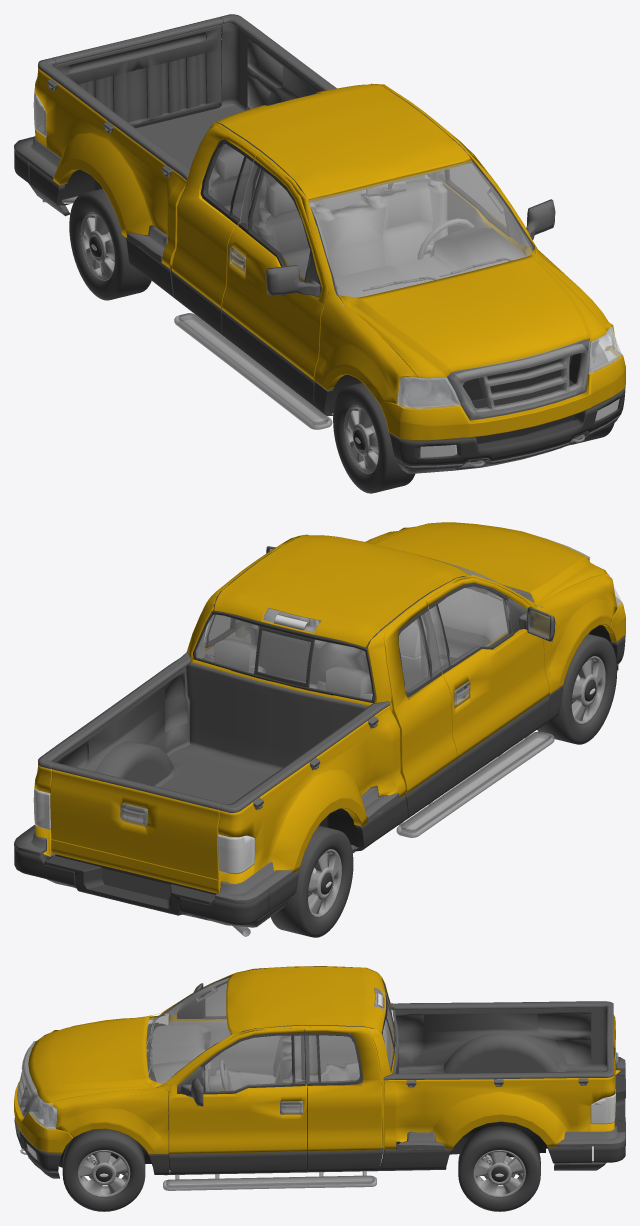
The picture shows the model from 3 angles, top to bottom: view 1: azimuth 30°, elevation 25°; view 2: azimuth 150°, elevation 25°; view 3: azimuth 270°, elevation 25°; orthographic projection. The views are drawn at different scales.
Parts seen in each view (by area): view 1: f150_mainbody, object 1, f150_inside, f150_flatbed, Ford_F150, f150_plastic, f150_mainbody_dark, f150_black, RAD_HR, RAD_VR, f150_rubber, glass (+1 smaller); view 2: f150_mainbody, f150_flatbed, object 1, f150_inside, f150_mainbody_dark, f150_plastic, Ford_F150, RAD_HR, RAD_VR, f150_rubber, back, f150_black; view 3: f150_mainbody, f150_flatbed, object 1, f150_inside, f150_mainbody_dark, f150_plastic, Ford_F150, RAD_HL, RAD_VL, f150_rubber, f150_black, back (+1 smaller).
Boxes of the visible parts, x1,y1,x2,y2 form: f150_mainbody: (34, 30, 625, 440); object 1: (205, 143, 532, 306); f150_inside: (208, 148, 529, 297); f150_flatbed: (53, 23, 321, 168); Ford_F150: (42, 93, 621, 466); f150_plastic: (14, 14, 620, 473); f150_mainbody_dark: (14, 149, 625, 465); f150_black: (62, 104, 589, 462); RAD_HR: (69, 188, 151, 300); RAD_VR: (333, 382, 415, 493); f150_rubber: (200, 87, 534, 301); glass: (397, 326, 621, 408); f150_mainbody: (34, 522, 625, 893); f150_flatbed: (53, 661, 368, 824); object 1: (196, 550, 543, 699); f150_inside: (196, 588, 552, 704); f150_mainbody_dark: (14, 635, 625, 925); f150_plastic: (14, 546, 620, 927); Ford_F150: (120, 538, 621, 936); RAD_HR: (271, 825, 353, 937); RAD_VR: (537, 634, 617, 744); f150_rubber: (193, 536, 514, 703); back: (33, 787, 254, 874); f150_black: (55, 586, 618, 894); f150_mainbody: (14, 966, 620, 1154); f150_flatbed: (391, 1007, 607, 1073); object 1: (146, 977, 394, 1091); f150_inside: (151, 977, 390, 1147); f150_mainbody_dark: (14, 1070, 625, 1174); f150_plastic: (21, 983, 625, 1178); Ford_F150: (17, 987, 618, 1190); RAD_HL: (458, 1125, 540, 1211); RAD_VL: (62, 1129, 145, 1211); f150_rubber: (158, 966, 395, 1094); f150_black: (25, 1023, 547, 1175); back: (590, 1023, 615, 1124).
Size of the model in its own units: 3.32 by 2.61 by 8.21.
